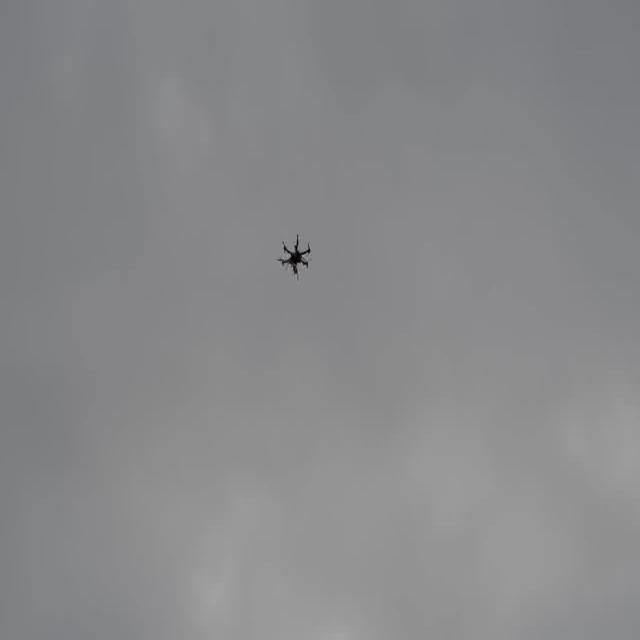drone: (274, 234, 312, 283)
